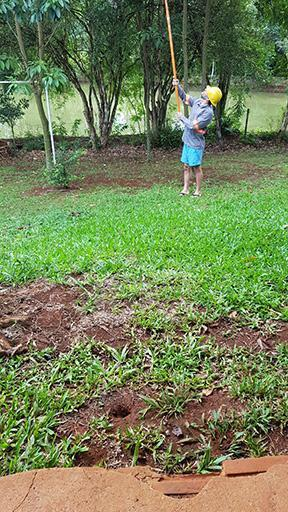helmet: (199, 83, 222, 109)
